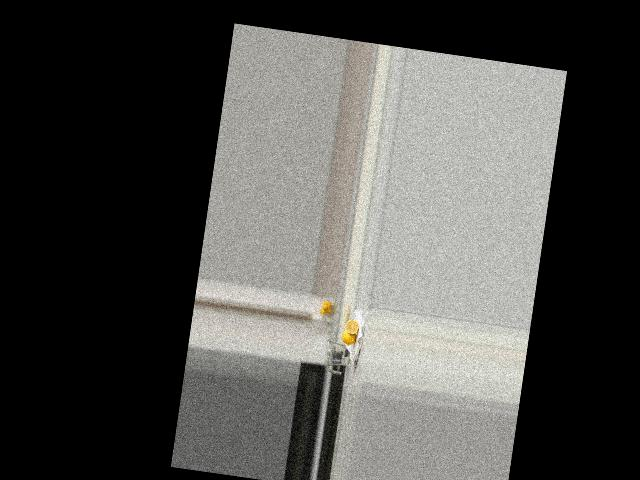lemon: (340, 327, 357, 347)
